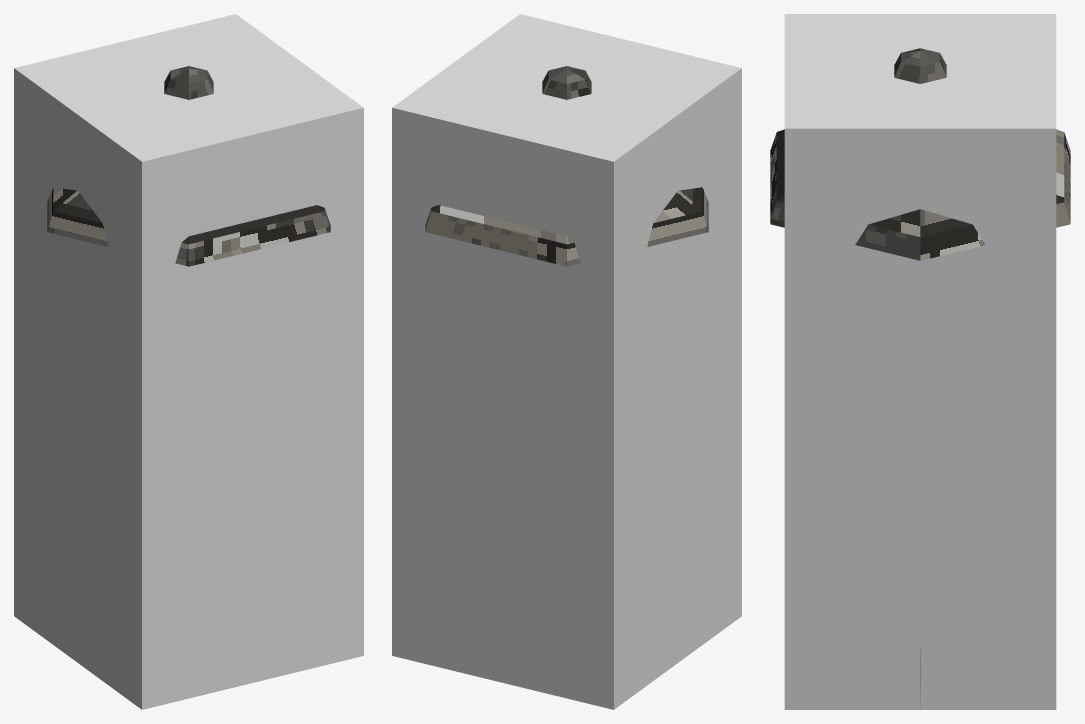
Rendered from JP_Prop_StoneLantern_A.glb.
The picture shows the model from 3 angles, left to right: view 1: azimuth 30°, elevation 25°; view 2: azimuth 150°, elevation 25°; view 3: azimuth 270°, elevation 25°; orthographic projection. The views are drawn at different scales.
Visible parts, largest first — view 1: COL_JP_Prop_StoneLantern_A, JP_Prop_StoneLantern_A; view 2: COL_JP_Prop_StoneLantern_A, JP_Prop_StoneLantern_A; view 3: COL_JP_Prop_StoneLantern_A, JP_Prop_StoneLantern_A.
Part boxes in pixels (<box>): COL_JP_Prop_StoneLantern_A: <box>14,14,363,709</box>; JP_Prop_StoneLantern_A: <box>47,66,330,266</box>; COL_JP_Prop_StoneLantern_A: <box>392,14,741,709</box>; JP_Prop_StoneLantern_A: <box>425,66,708,266</box>; COL_JP_Prop_StoneLantern_A: <box>784,14,1056,709</box>; JP_Prop_StoneLantern_A: <box>770,48,1070,704</box>.
Size of the model in its own units: 0.92 by 1.76 by 0.7967.
Materials: 2 (2 with a texture image).
